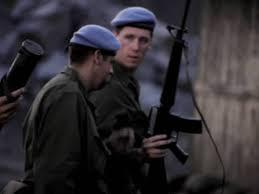rifle: (141, 0, 203, 194)
